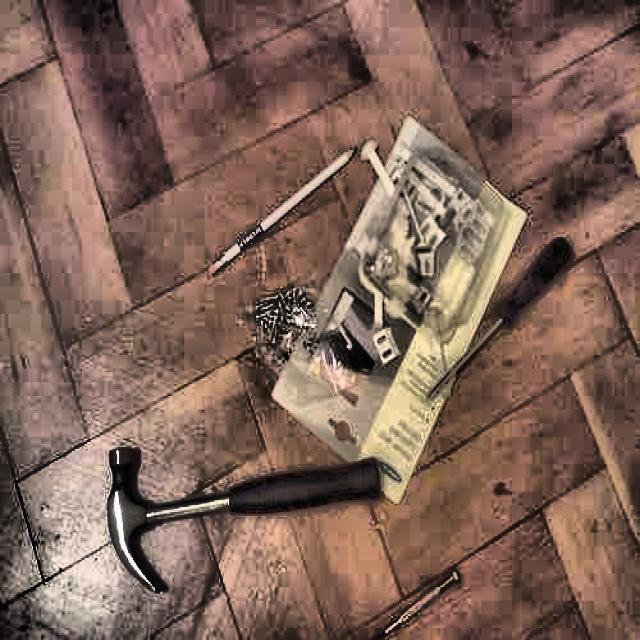hammer: (106, 446, 380, 594)
